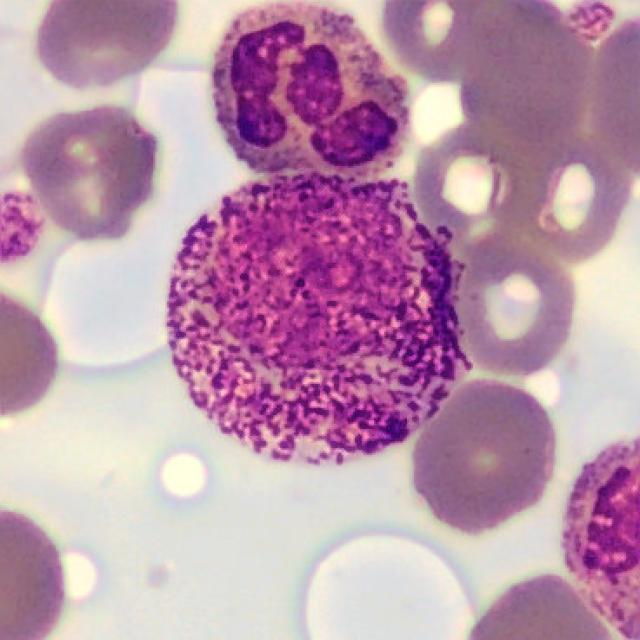Neutrofilo segmentado: (207, 3, 415, 179)
